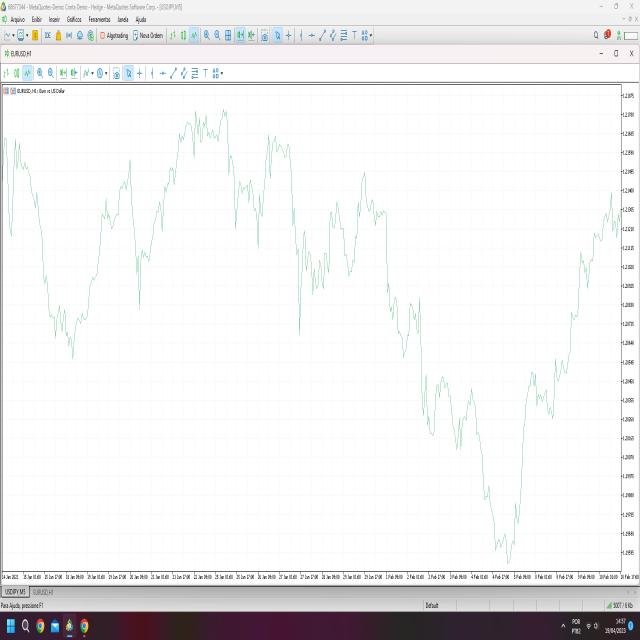fundo_duplo: (222, 128, 276, 266)
oco_inv: (444, 278, 560, 575), (374, 266, 421, 365)
